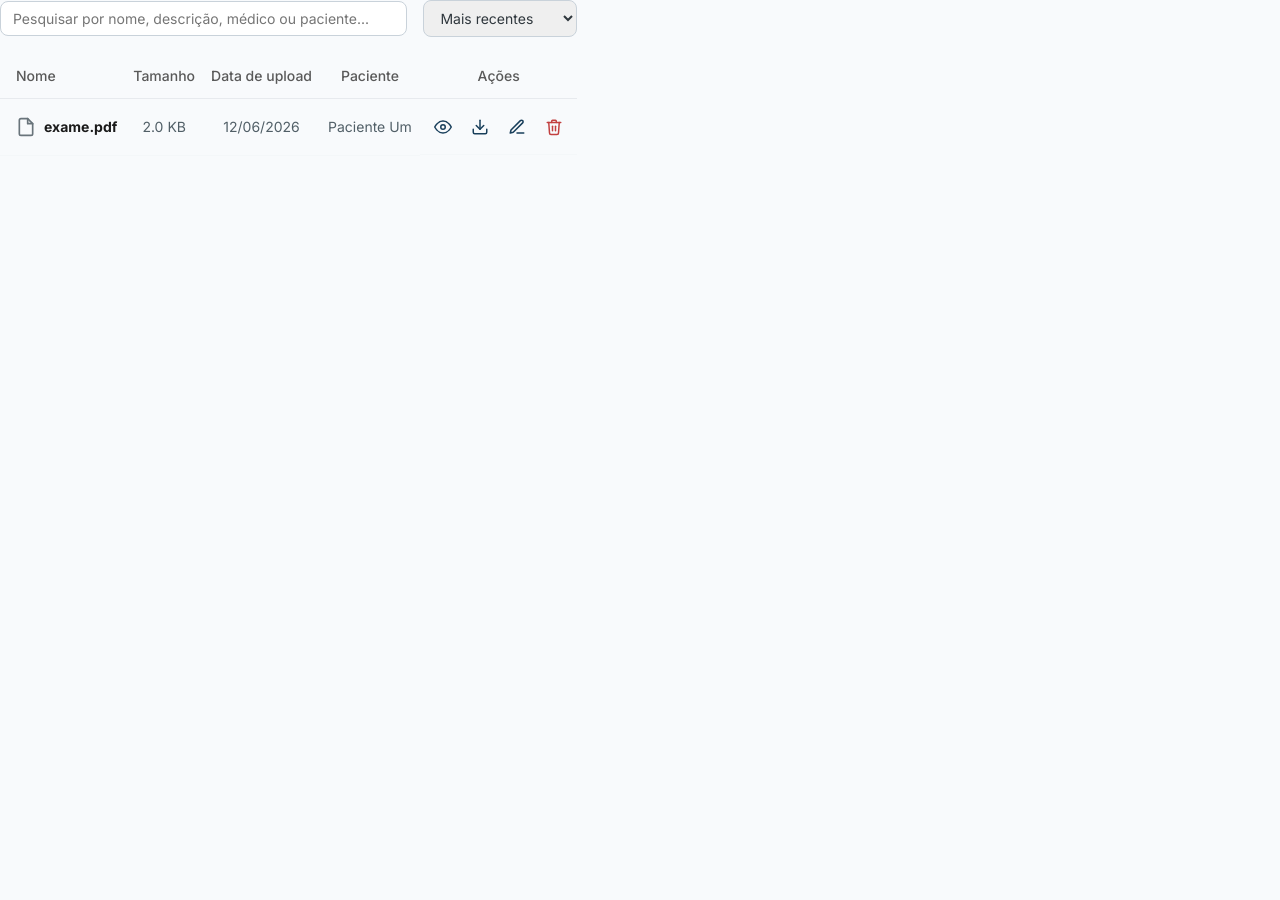
it: FilesTable — viewerRole=medico (proprietário) › mostra mensagem de erro quando o delete falha
Click the button named "excluir" at [554, 127], box [538,111,569,142]
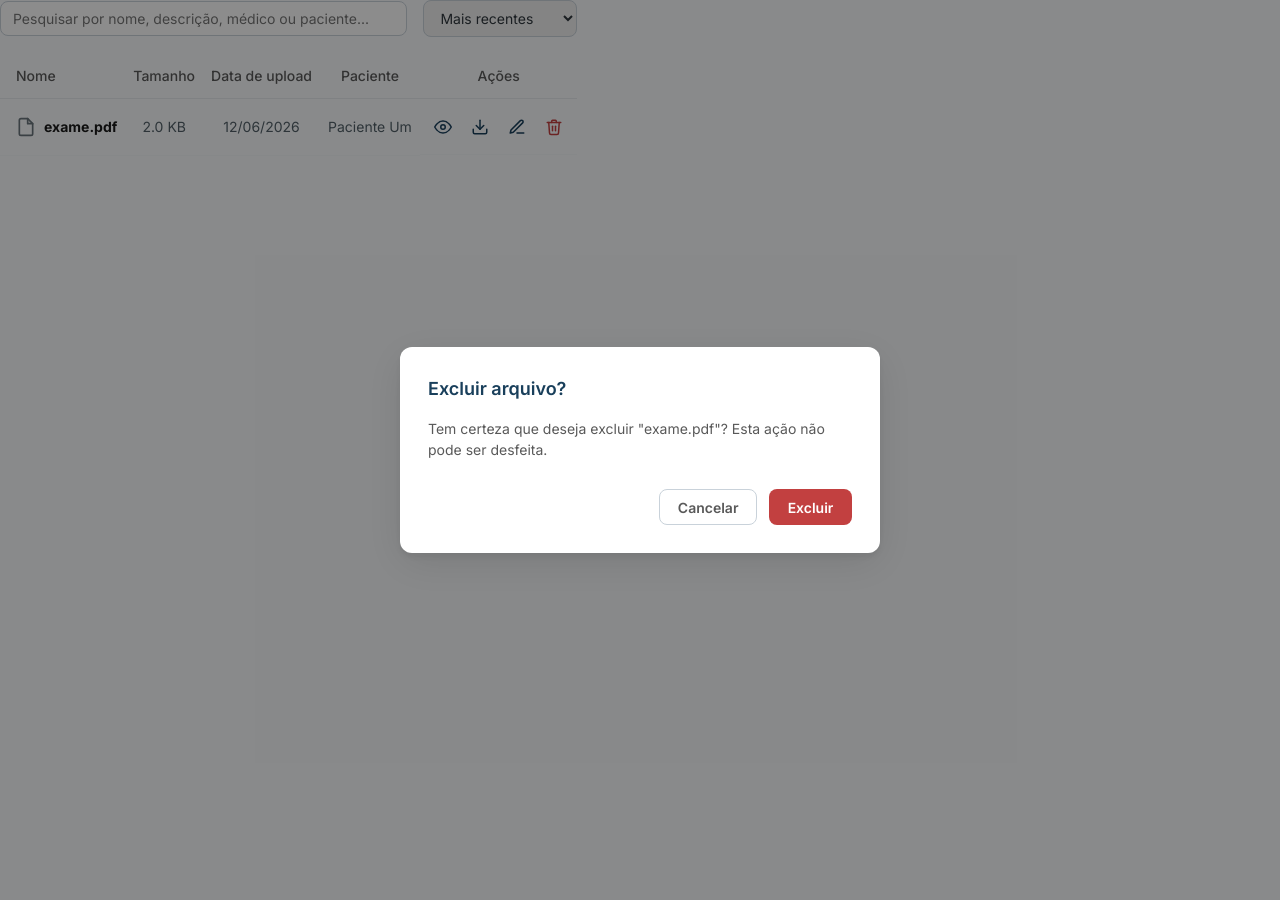
Click the button "Excluir" at [810, 507], box [769,489,852,526]
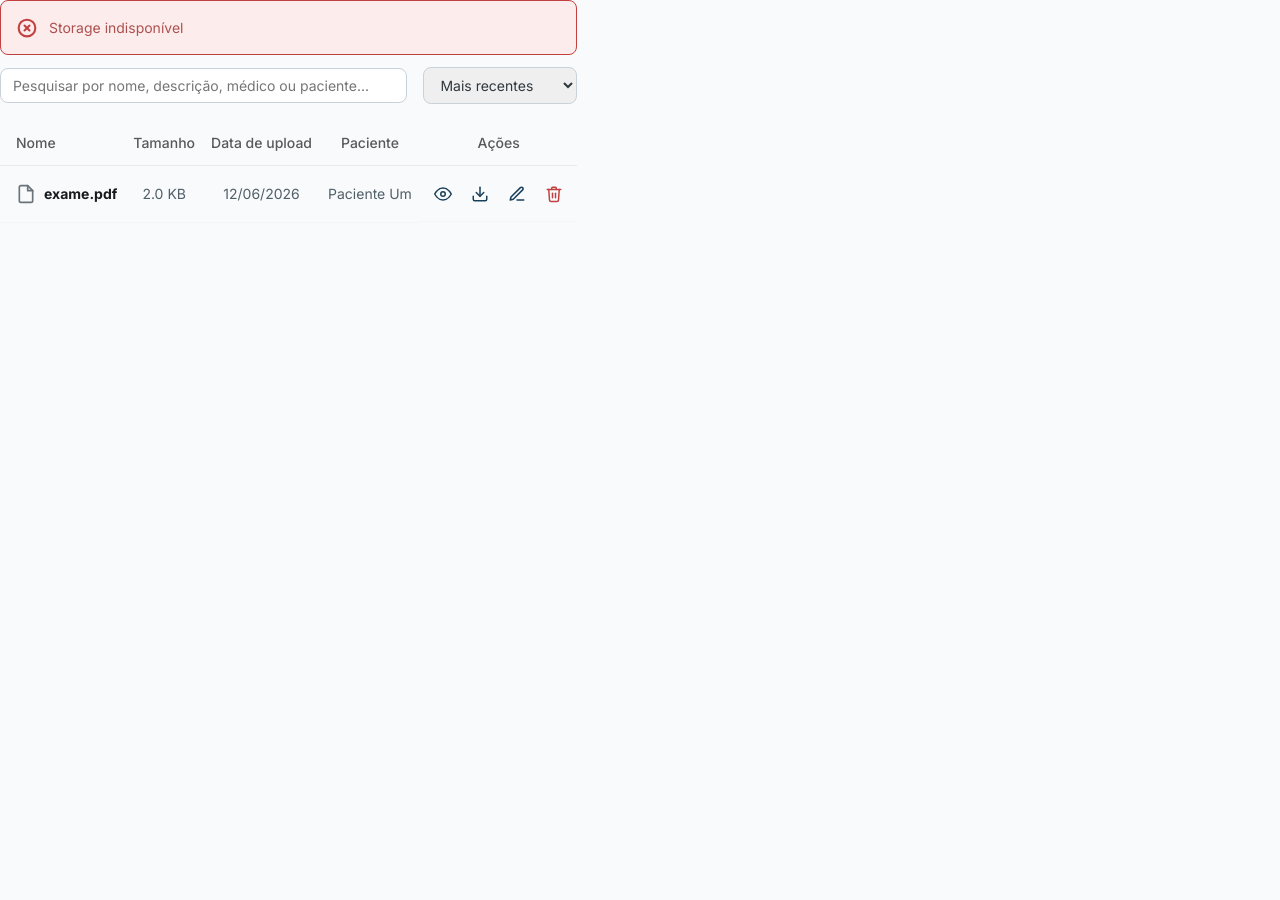
Now the message shows "Storage", box [49,19,183,36]
